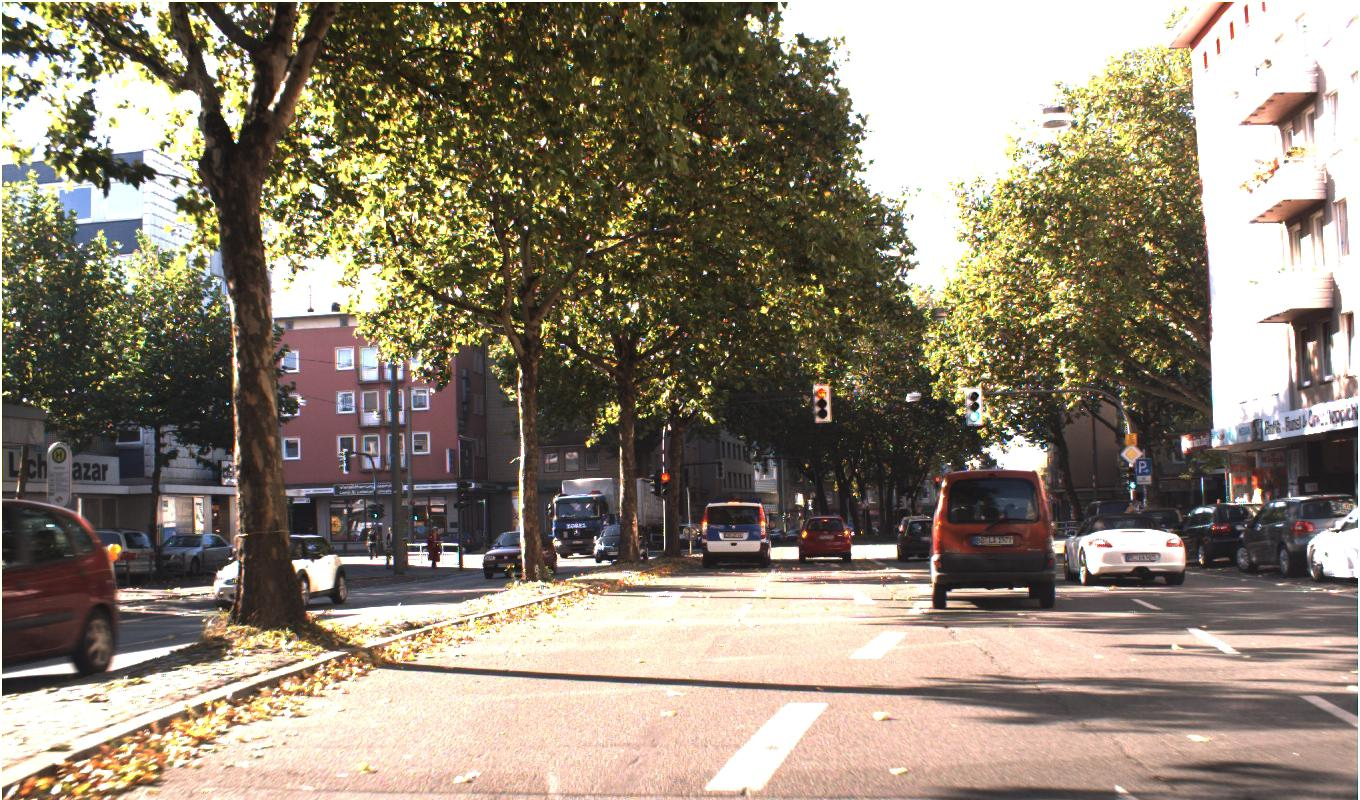sign: (1120, 444, 1142, 464)
